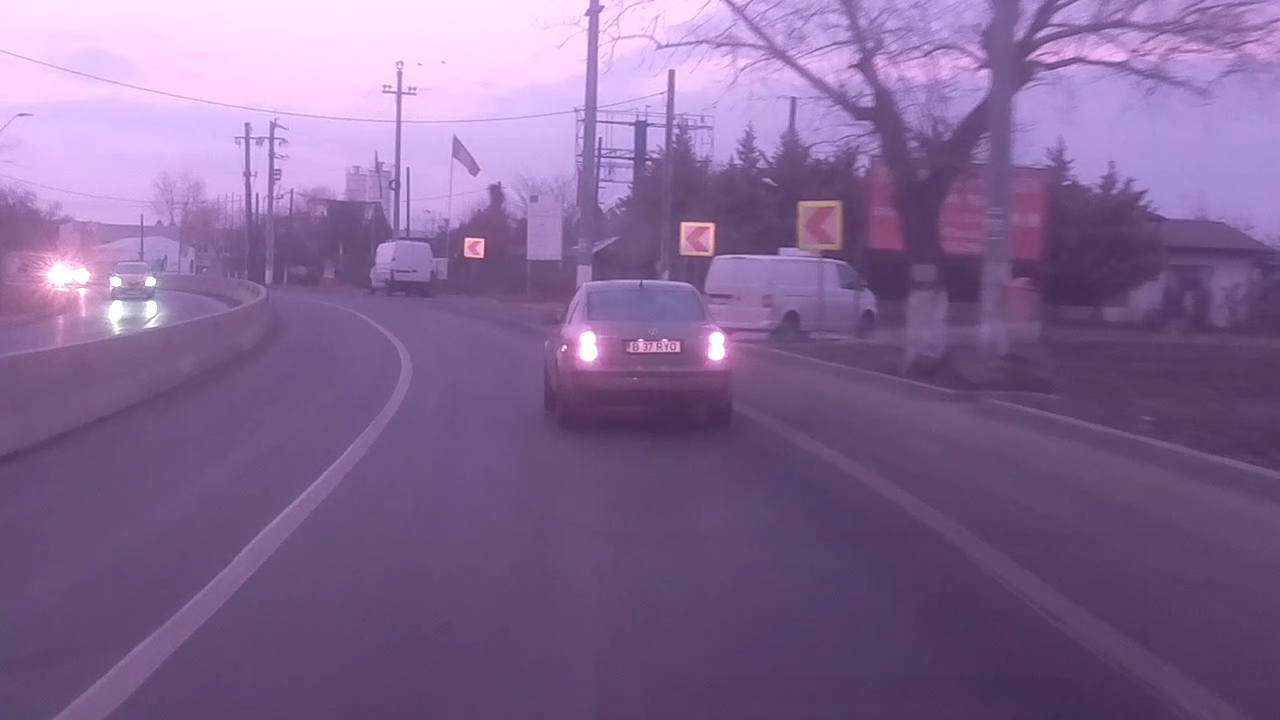license-plate: (623, 336, 685, 356)
